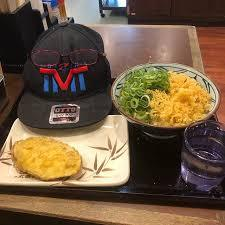bukkake: (117, 64, 215, 124)
satumaimo: (12, 138, 85, 179)
